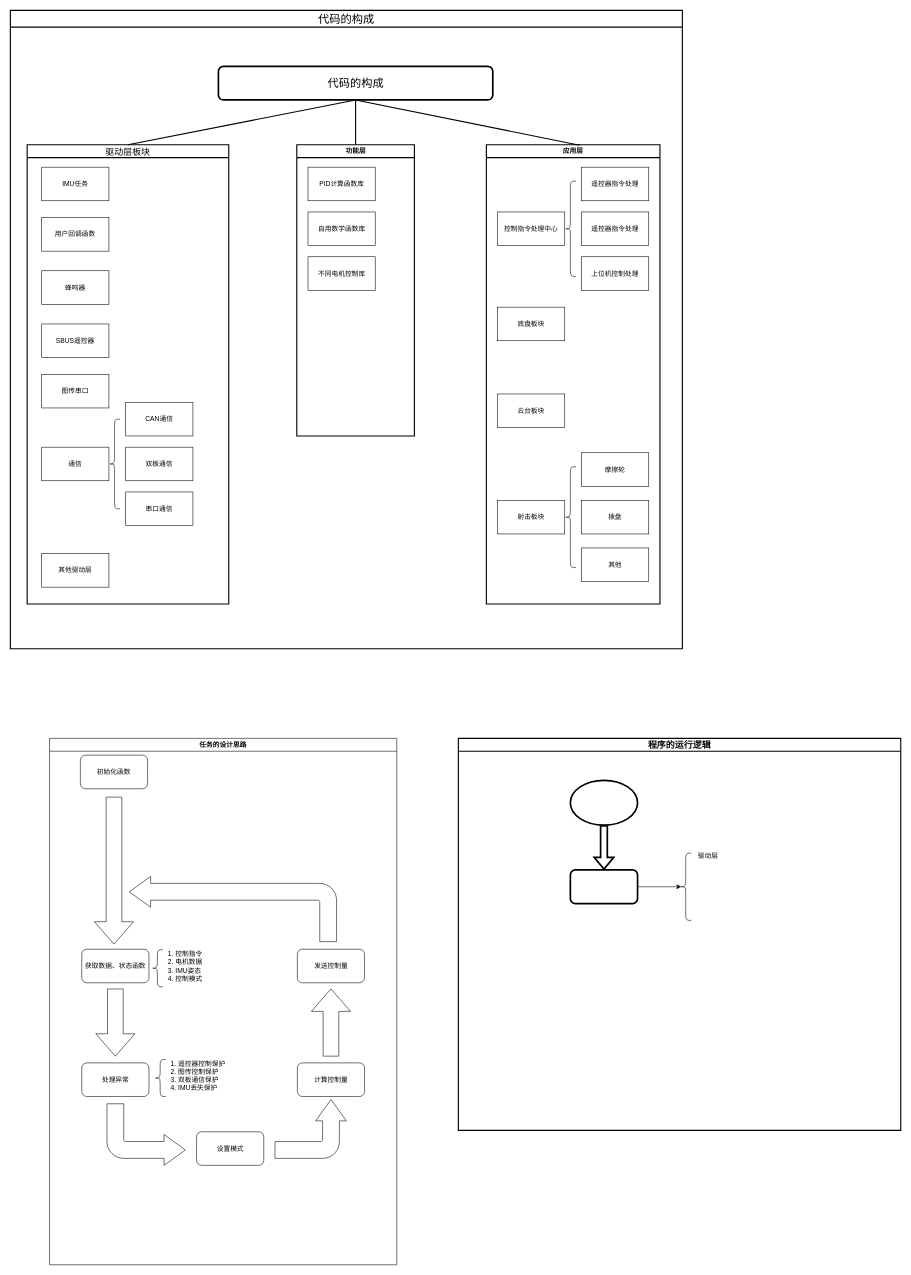
The diagram is 911 pixels wide and 1275 high, and some of its shapes have lost their labels. The shapes that lost their labels are listed below. From the top down, each one's centre as x and y in pixels, then its label:
the point at 603,802: 程序开机运行
the point at 603,886: 用户初始化
